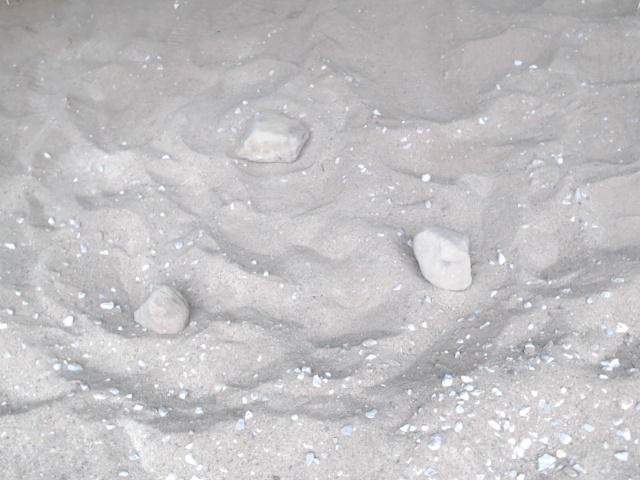rock: (409, 219, 477, 296), (229, 106, 313, 168), (130, 281, 194, 340)
